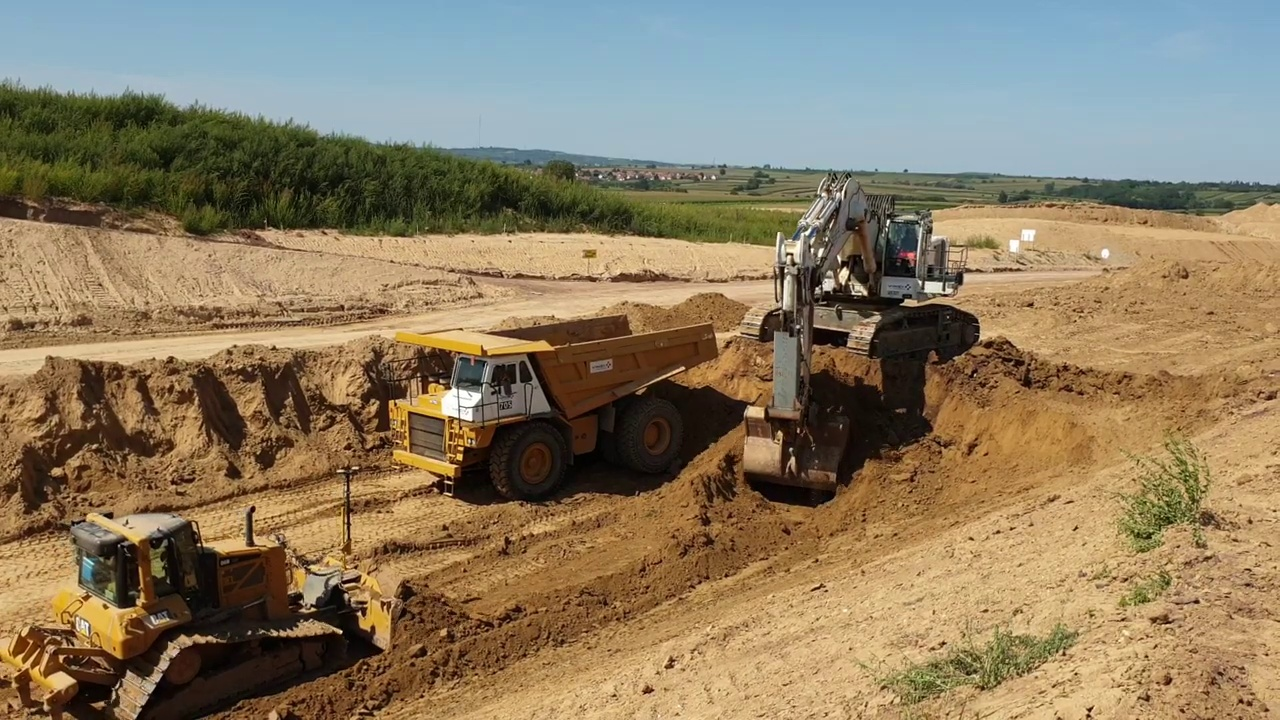bulldozer: (1, 465, 410, 720)
excavator: (733, 164, 985, 505)
truck: (376, 312, 723, 509)
